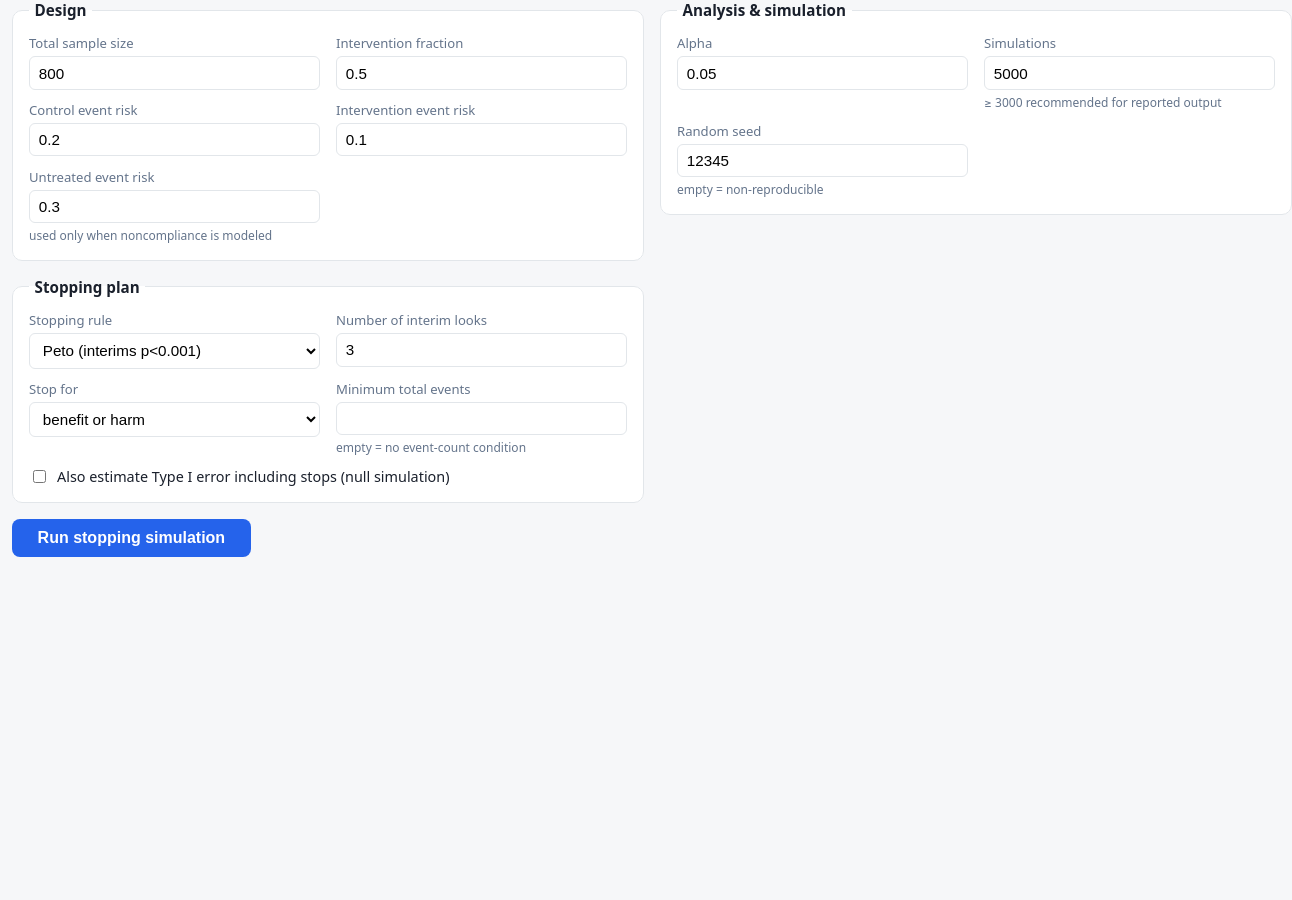
Test: StoppingRules › runs the simulation and renders plan, summary cards, look table, and chart
Click the button with test id "run-button": (131, 538) top-left (12, 519), bottom-right (251, 557)
(page scrolled)
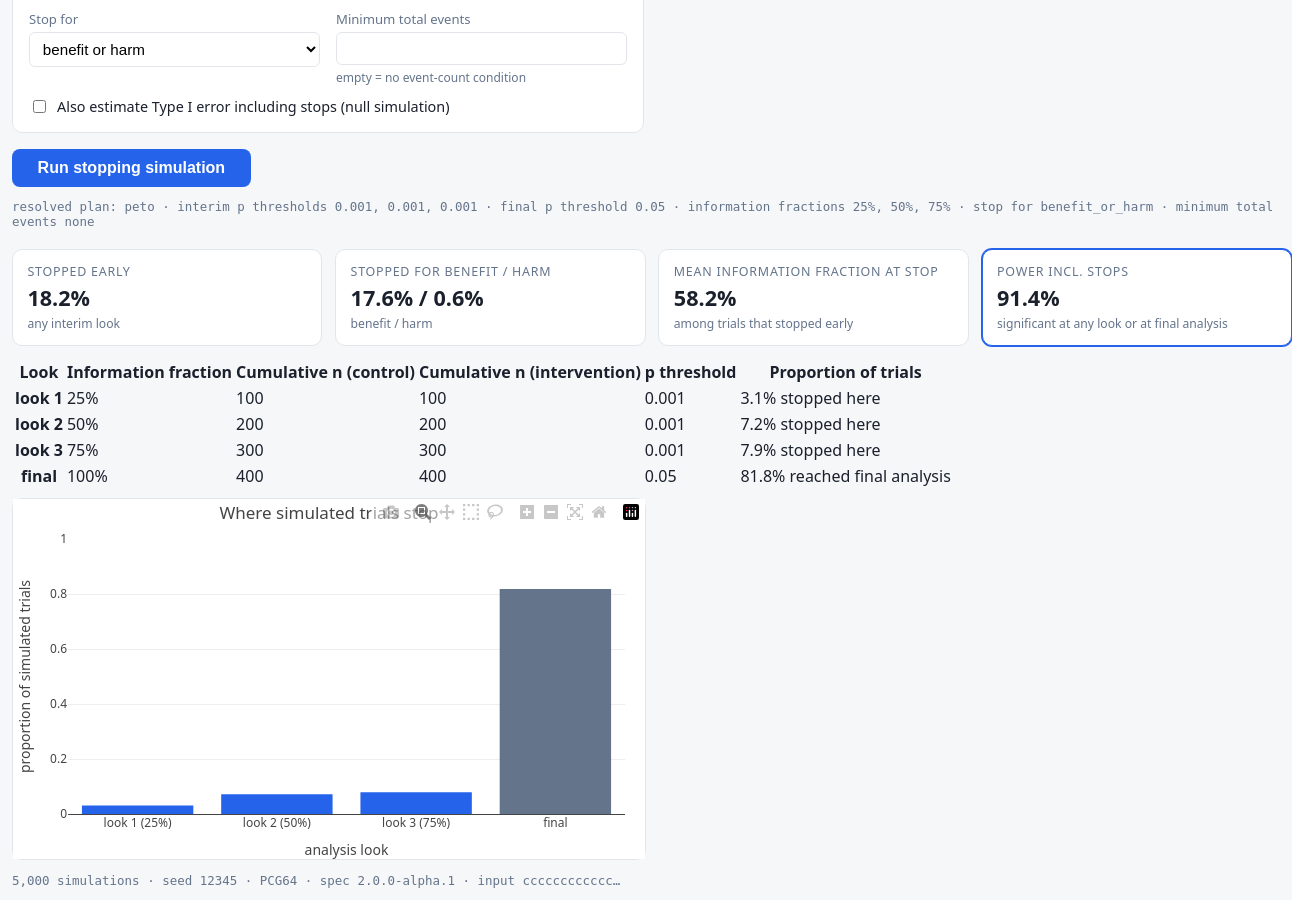
Result: the element with test id "results" is shown
Result: the text with test id "plan" shows "peto" at top-left (125, 199), bottom-right (155, 214)
Result: the text with test id "plan" shows "0.001, 0.001, 0.001" at top-left (335, 199), bottom-right (477, 214)
